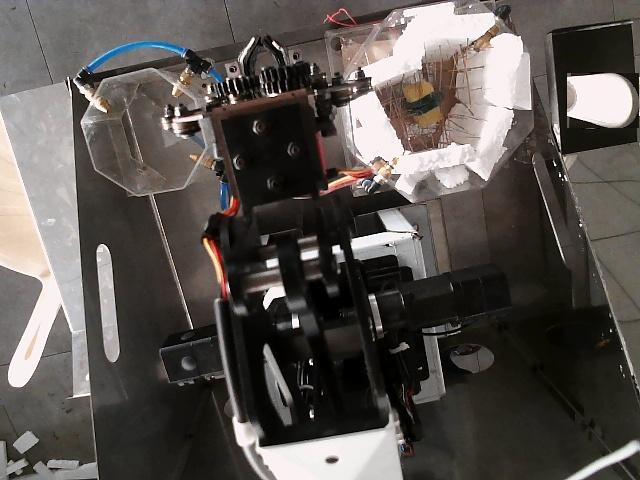cup: (567, 73, 639, 128)
